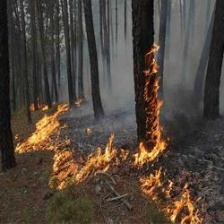fire: (20, 79, 215, 223)
smoke: (94, 16, 136, 126), (165, 8, 203, 98)
